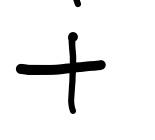plus: (15, 31, 106, 114)
